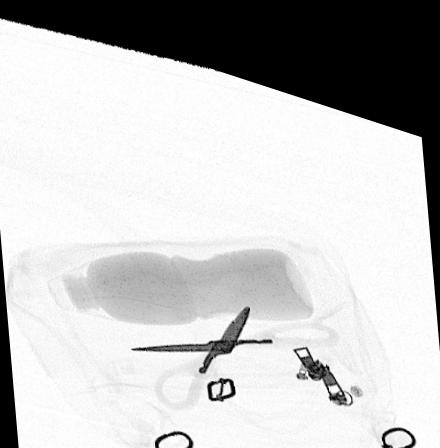Scissors: (125, 291, 340, 402)
